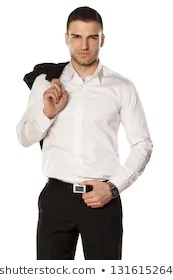F_belt: (46, 174, 108, 190)
F_dress pants: (32, 178, 124, 259)
F_shirt: (18, 59, 154, 188)
